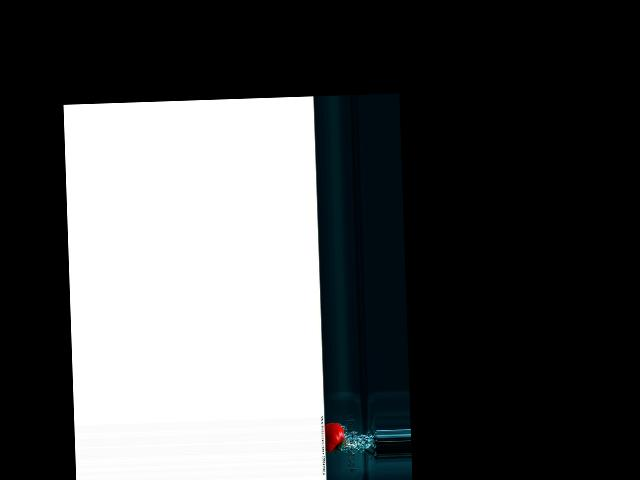tomato: (324, 422, 345, 452)
